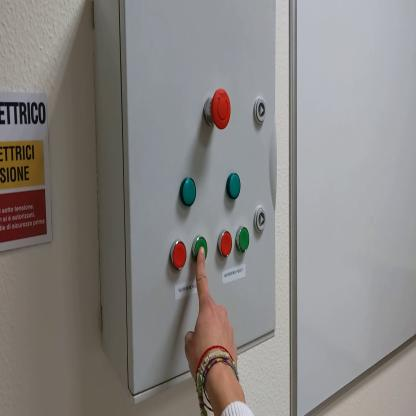hand: (187, 244, 242, 397)
left green button: (194, 236, 209, 265)
left red button: (170, 239, 188, 271)
right green button: (238, 228, 251, 254)
right red button: (222, 230, 233, 259)
